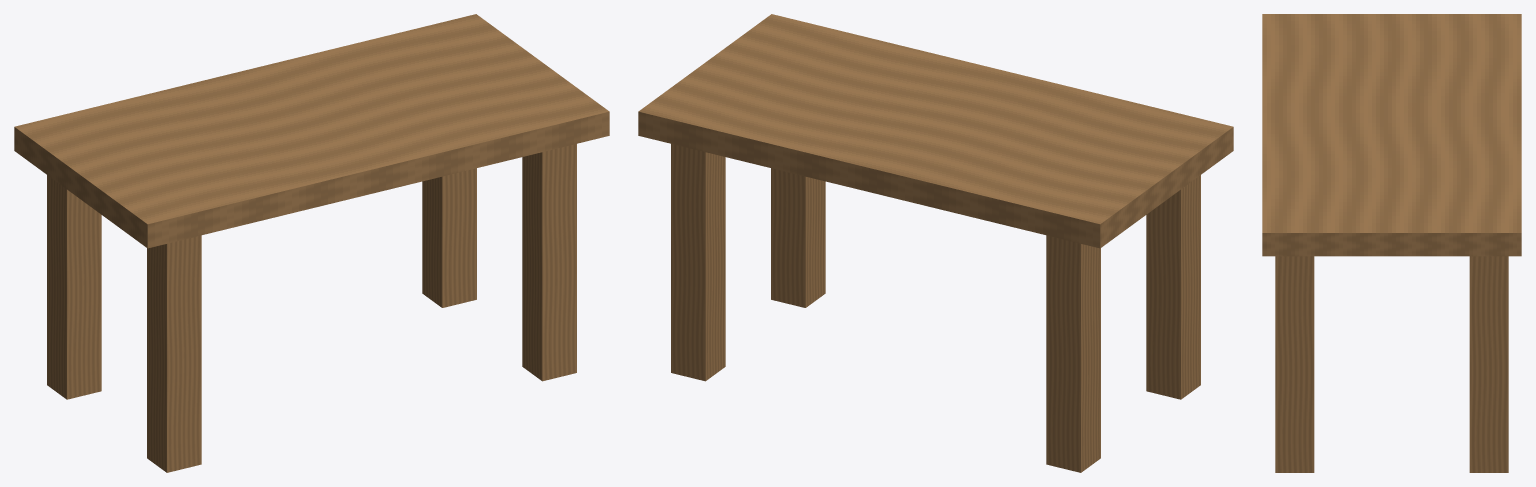
3 renders of one model, left to right at view 1: azimuth 30°, elevation 25°; view 2: azimuth 150°, elevation 25°; view 3: azimuth 270°, elevation 25°, orthographic. The views are drawn at different scales.
Parts seen in each view (by area): view 1: Schwerer Hütten-Eichentisch; view 2: Schwerer Hütten-Eichentisch; view 3: Schwerer Hütten-Eichentisch.
Boxes of the visible parts, x1=… form: Schwerer Hütten-Eichentisch: x1=14, y1=14, x2=609, y2=472; Schwerer Hütten-Eichentisch: x1=638, y1=14, x2=1233, y2=472; Schwerer Hütten-Eichentisch: x1=1262, y1=14, x2=1521, y2=472.
Size of the model in its own units: 1.6 by 0.86 by 0.8.
Materials: 1 (1 with a texture image).
